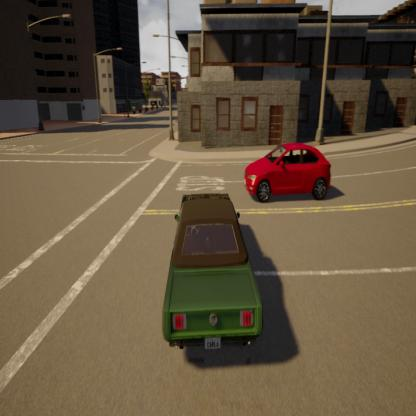Cars: (149, 184, 267, 364), (238, 128, 346, 206)
